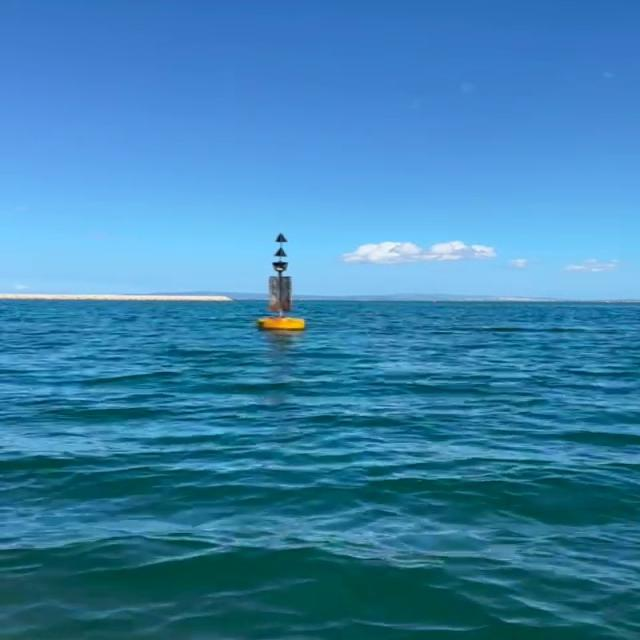marque: (255, 234, 308, 330)
